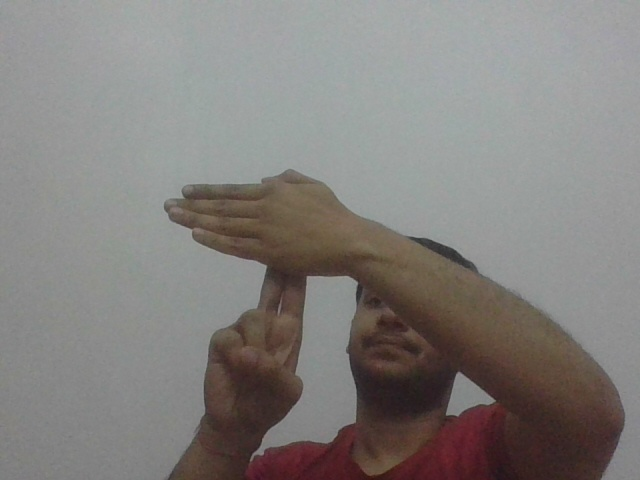N: (163, 167, 339, 318)
